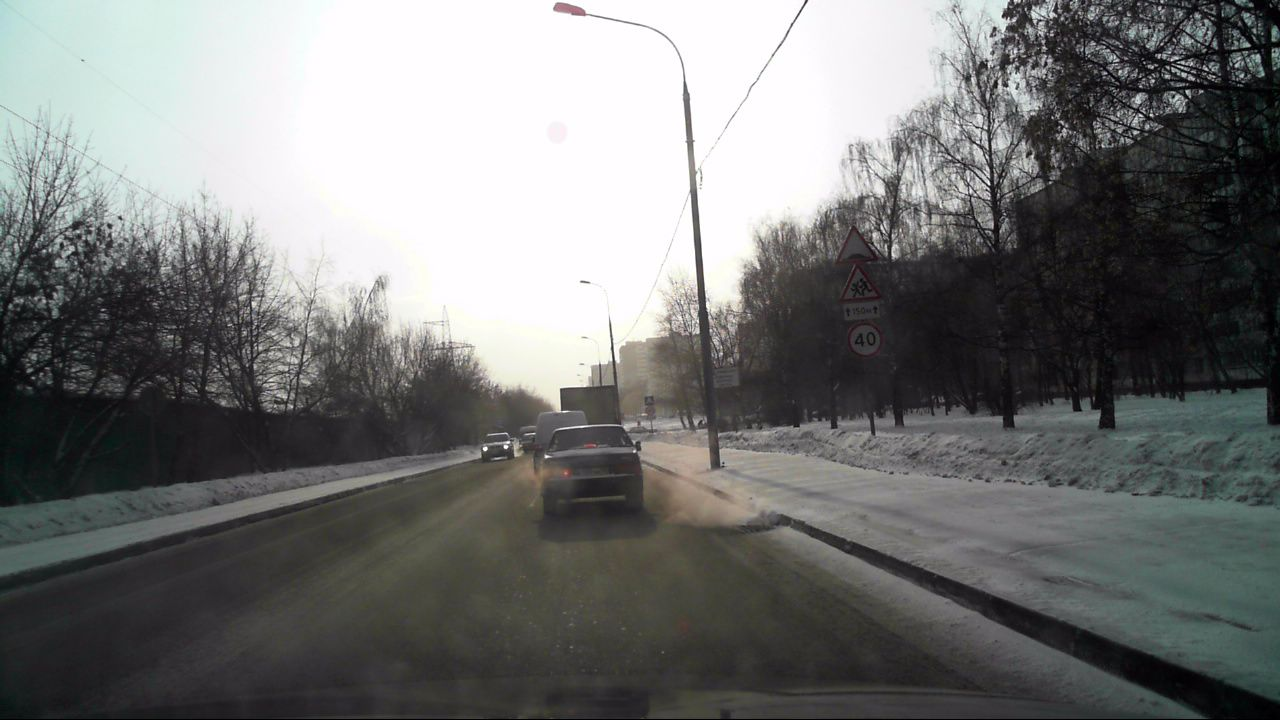speed_warning_40: (848, 322, 881, 356)
